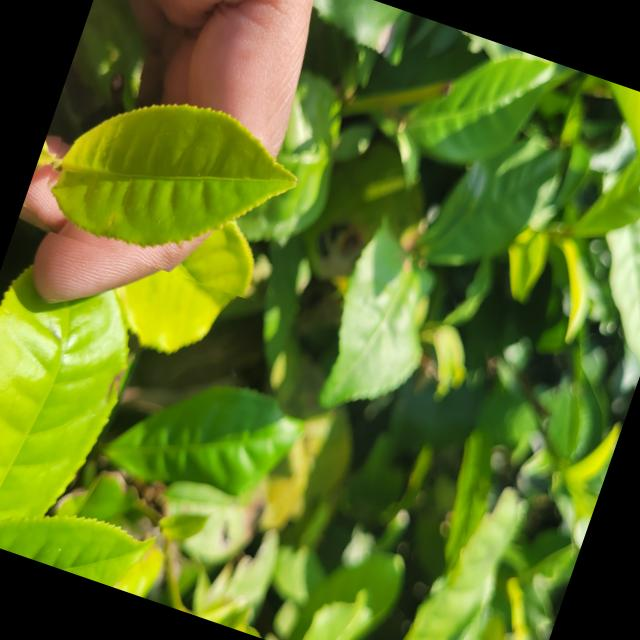Catagory A(1-2 days): (26, 44, 322, 304)
